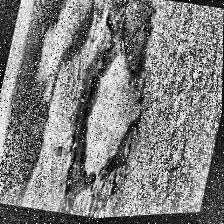pothole: (58, 41, 158, 209), (92, 0, 160, 82)
